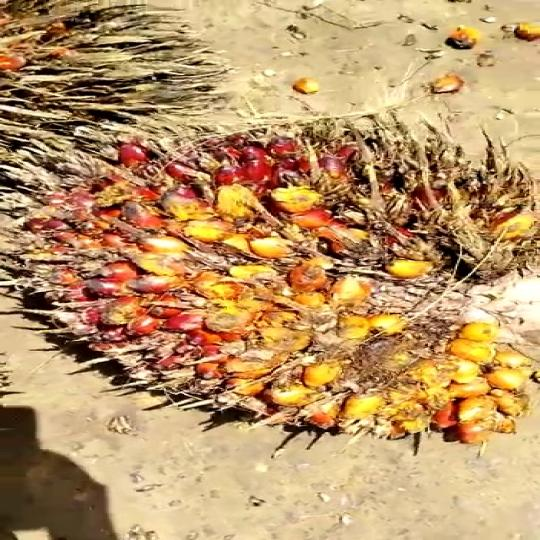masak: (0, 124, 540, 447)
